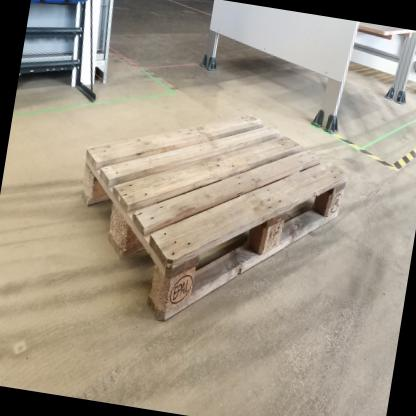BoxFace: (77, 108, 352, 336)
